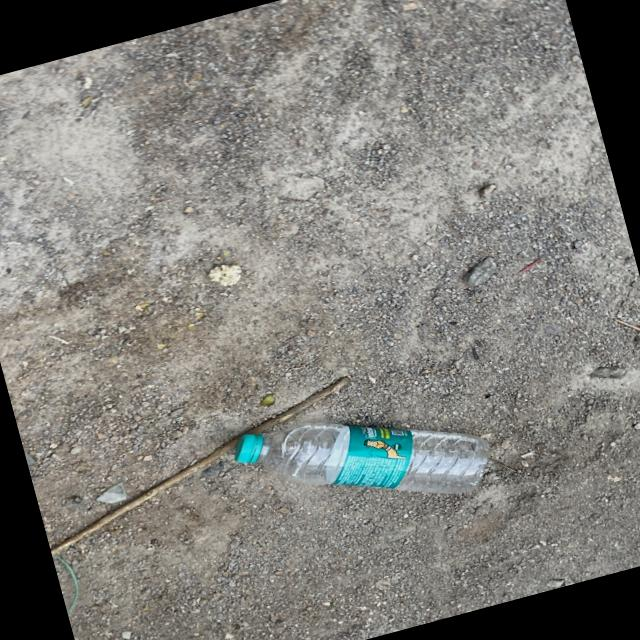hop_nhua: (235, 423, 489, 494)
